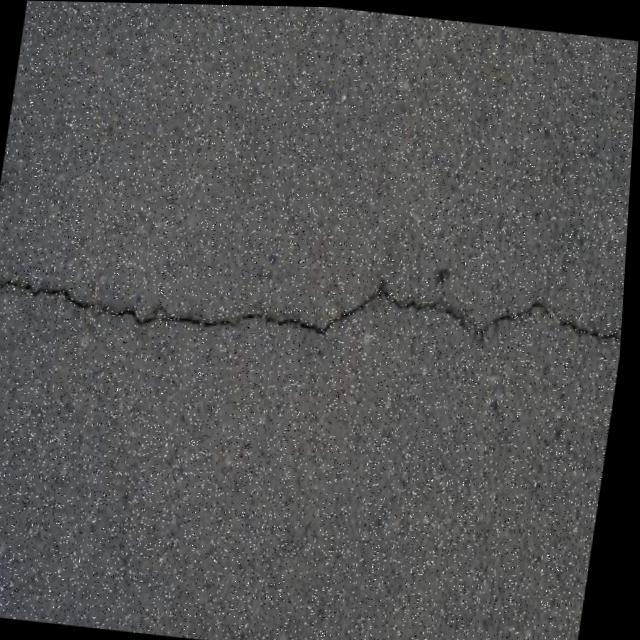Crack: (0, 208, 630, 384)
